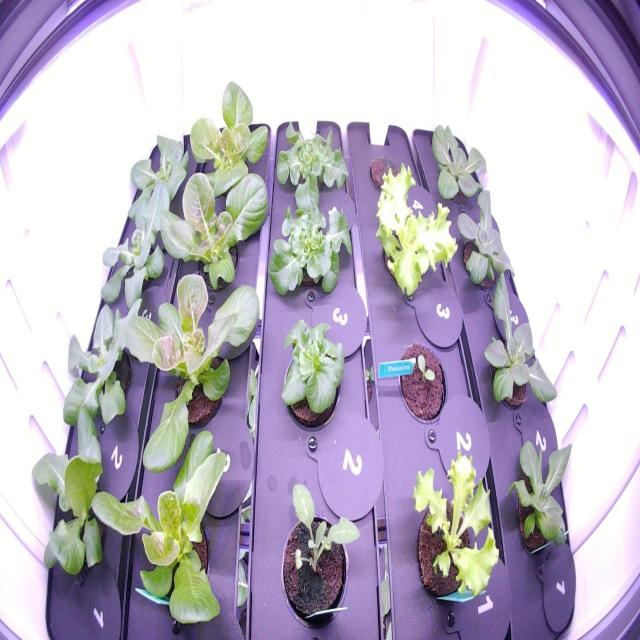germination: (392, 330, 451, 430)
pod: (364, 145, 409, 203)
young: (92, 411, 233, 636), (126, 269, 268, 491), (19, 403, 131, 592), (154, 152, 273, 304), (56, 290, 156, 439), (94, 176, 185, 323), (472, 265, 561, 415), (181, 74, 274, 204), (498, 420, 576, 570), (118, 122, 196, 236), (447, 183, 522, 297), (424, 114, 502, 214)
